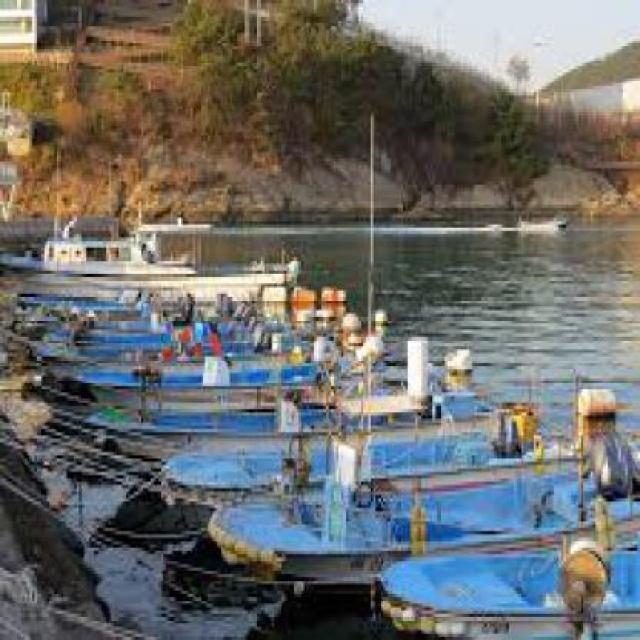fish-b: (191, 466, 639, 575), (359, 526, 639, 638), (6, 216, 323, 302), (50, 377, 506, 433)
